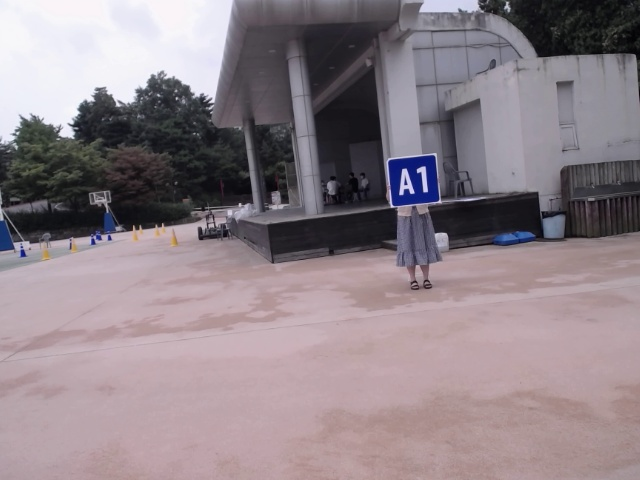delivery_a1: (388, 153, 440, 208)
